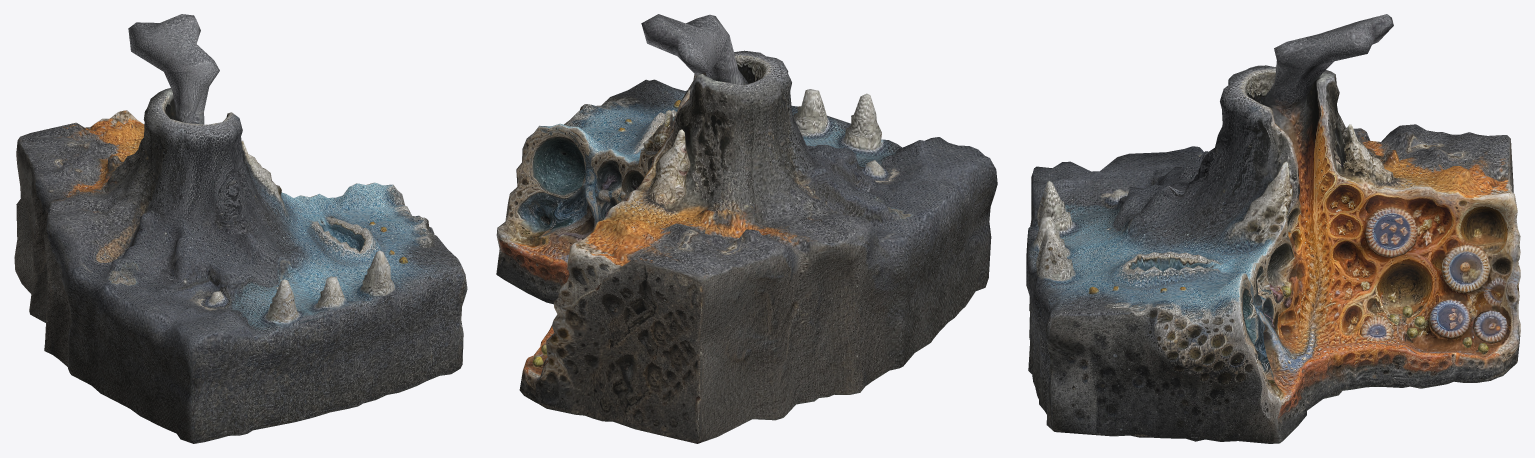
Rendered from hydrothermal-vent-tripo.glb.
3 renders of one model, left to right at view 1: azimuth 30°, elevation 25°; view 2: azimuth 150°, elevation 25°; view 3: azimuth 270°, elevation 25°, orthographic. The views are drawn at different scales.
Visible parts, largest first — view 1: tripo_node_8dd9a840-a2e5-43c6-aabc-456c2c0edbf7; view 2: tripo_node_8dd9a840-a2e5-43c6-aabc-456c2c0edbf7; view 3: tripo_node_8dd9a840-a2e5-43c6-aabc-456c2c0edbf7.
Part boxes in pixels (x1,y1,x2,y2): tripo_node_8dd9a840-a2e5-43c6-aabc-456c2c0edbf7: (14, 14, 467, 443); tripo_node_8dd9a840-a2e5-43c6-aabc-456c2c0edbf7: (496, 14, 997, 443); tripo_node_8dd9a840-a2e5-43c6-aabc-456c2c0edbf7: (1026, 14, 1520, 443).
Size of the model in its own units: 0.8848 by 0.7402 by 0.998.
1 material, 1 textured.
